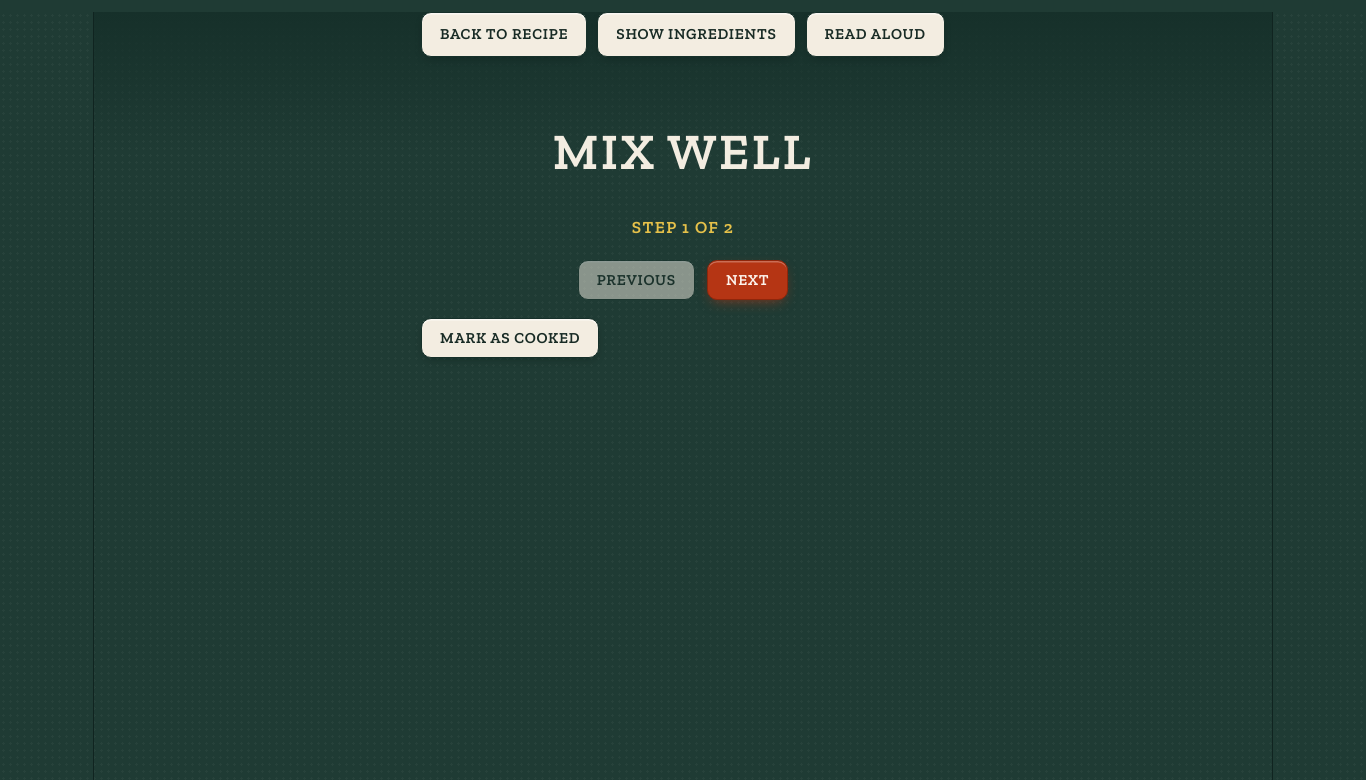
Test case: the step itself advances, so a knuckle will do
Step 1. Click the button with aria-label "advance from step 1 of 2" → (683, 152), box [421,111,945,193]
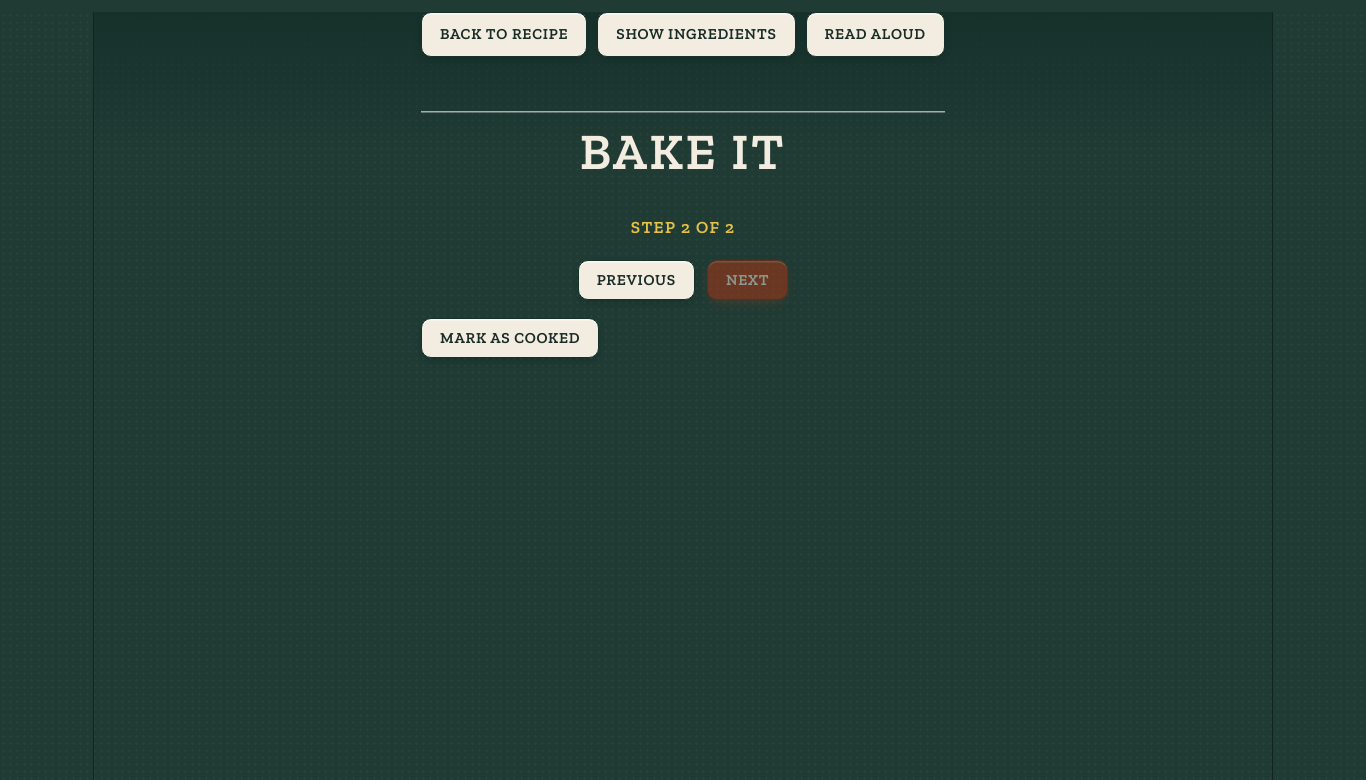
Result: the button "bake it" is shown at [421,111,945,193]
